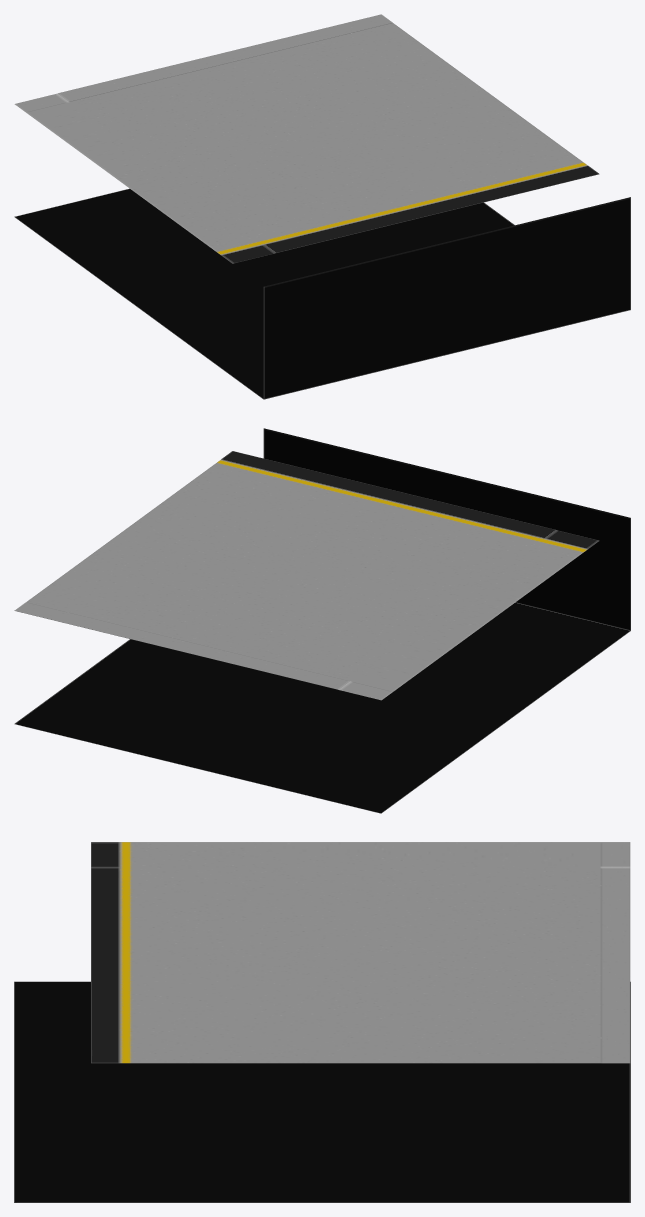
Rendered from floorMiddle1.fbx.
3 renders of one model, top to bottom at view 1: azimuth 30°, elevation 25°; view 2: azimuth 150°, elevation 25°; view 3: azimuth 270°, elevation 25°, orthographic. The views are drawn at different scales.
Parts seen in each view (by area): view 1: pCube55; view 2: pCube55; view 3: pCube55.
Boxes of the visible parts, <box> form: pCube55: <box>14,14,630,399</box>; pCube55: <box>14,428,630,813</box>; pCube55: <box>14,842,630,1202</box>.
Size of the model in its own units: 3.4 by 1 by 4.
Materials: 1 (1 with a texture image).
